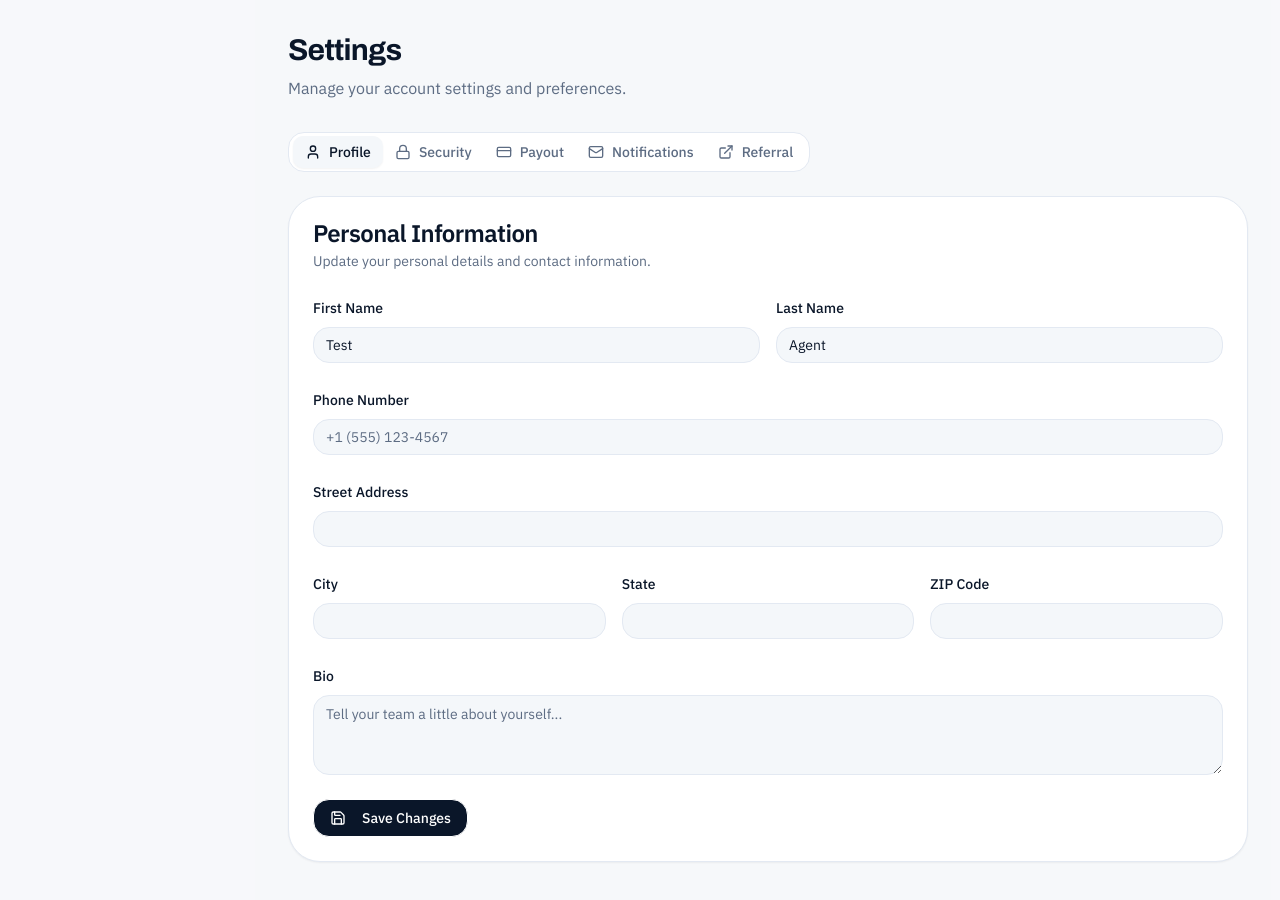
Scenario: Settings notifications: unsaved changes indicator › warns with a confirmation dialog when navigating away with unsaved changes
Click the tab with test id "tab-notifications" at (641, 152), box [576,136,706,168]
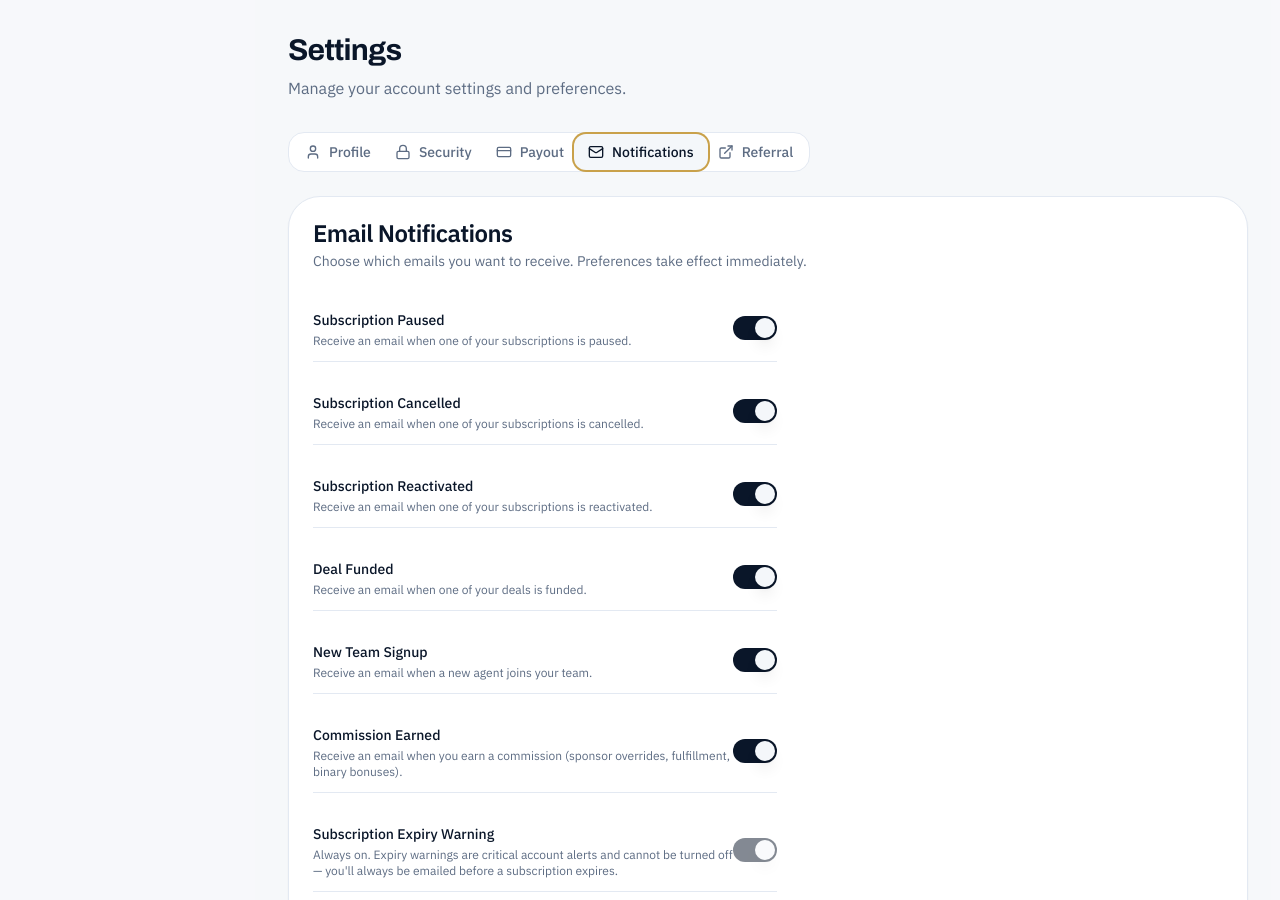
Click the switch with test id "toggle-email-on-commission-earned" at (755, 751), box [733,739,777,763]
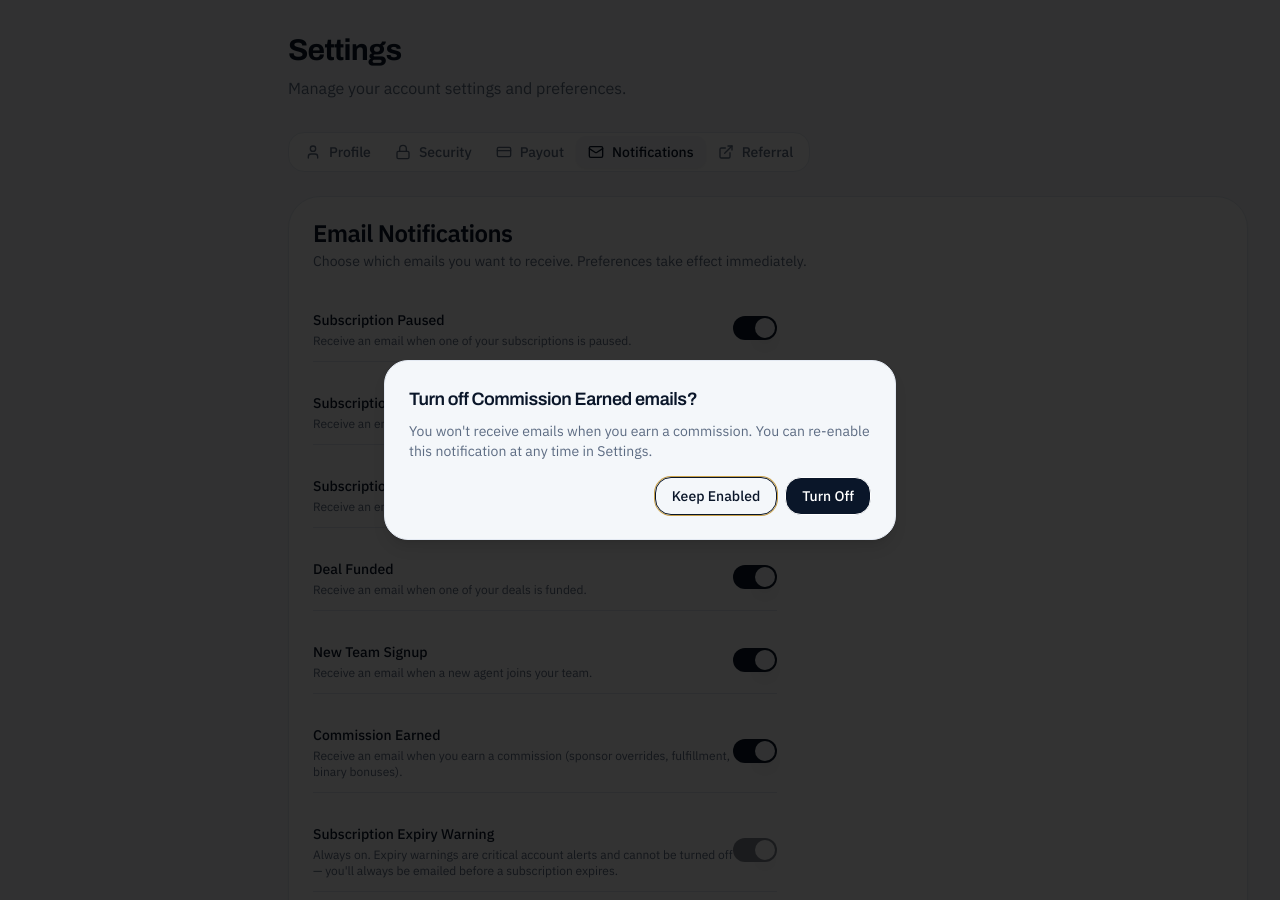
Click the button with test id "dialog-confirm-disable" at (828, 496), box [785,477,871,515]
(page scrolled)
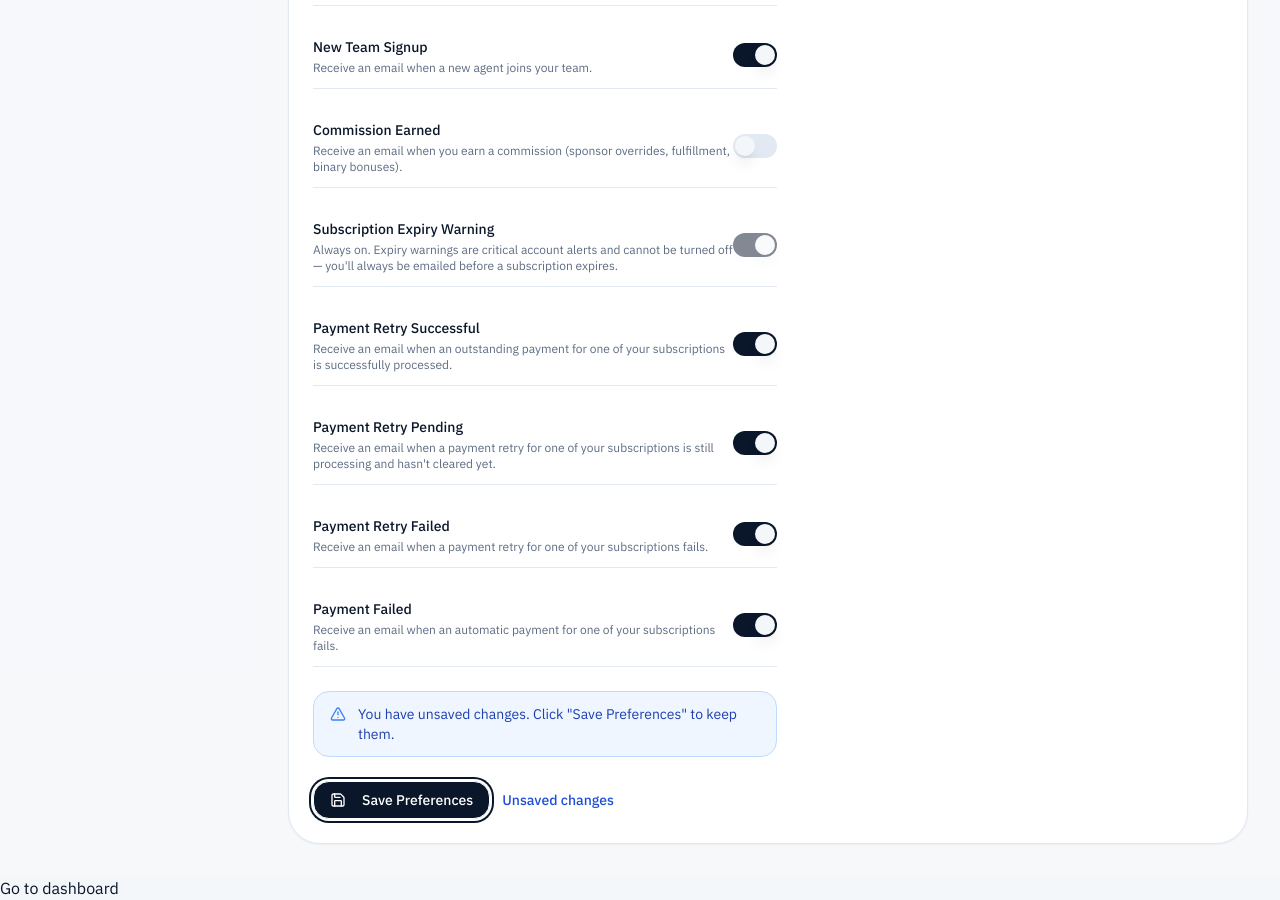
Click the link "Go to dashboard" at (59, 888), box [0,878,119,898]
(page scrolled)
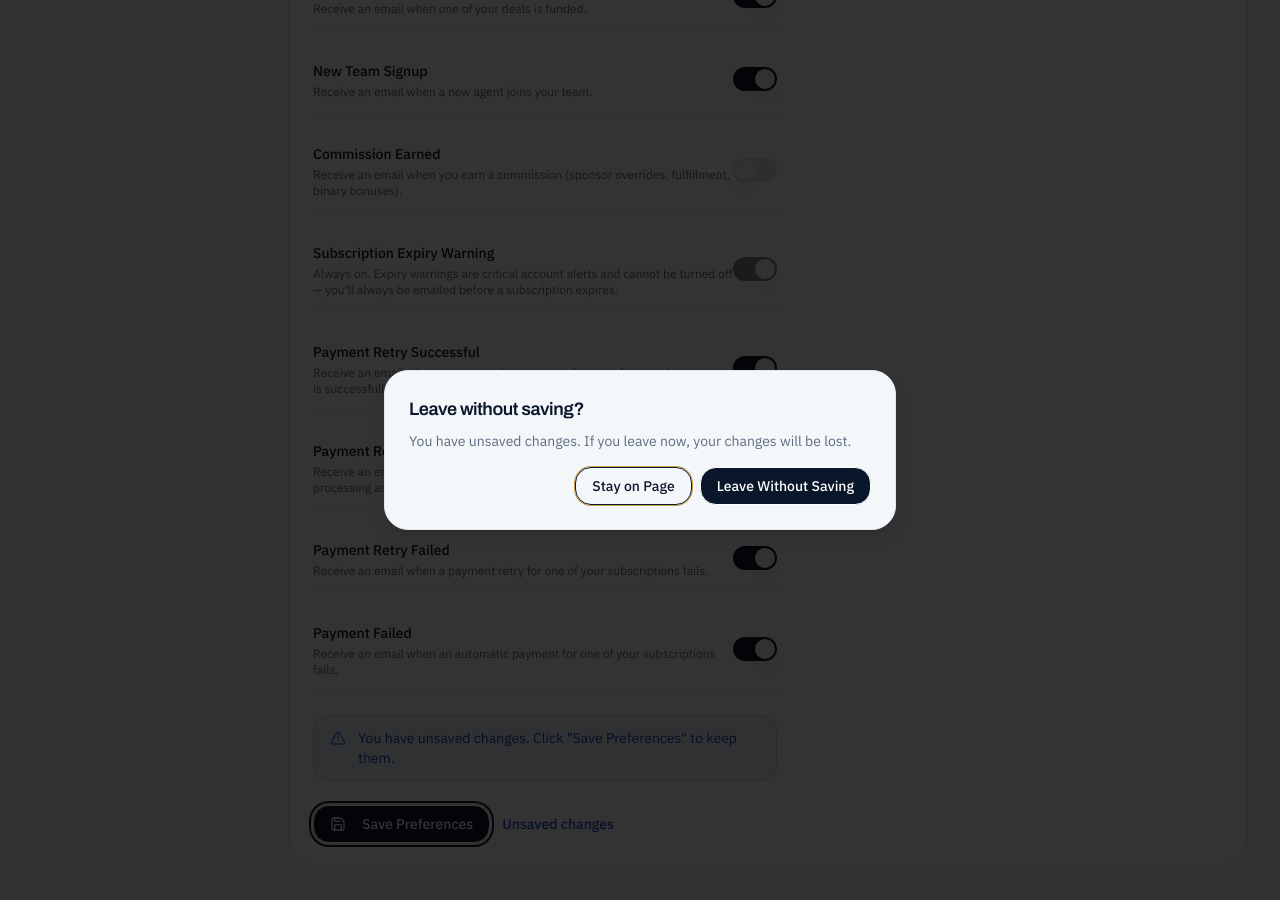
Check: the dialog with test id "dialog-unsaved-changes" is shown, box [384,370,896,530]
